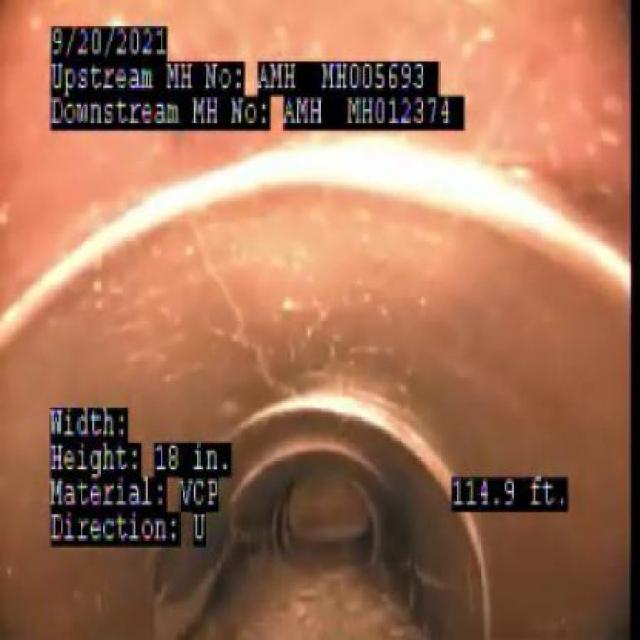Joint offset: (214, 138, 628, 288), (302, 377, 443, 463)
